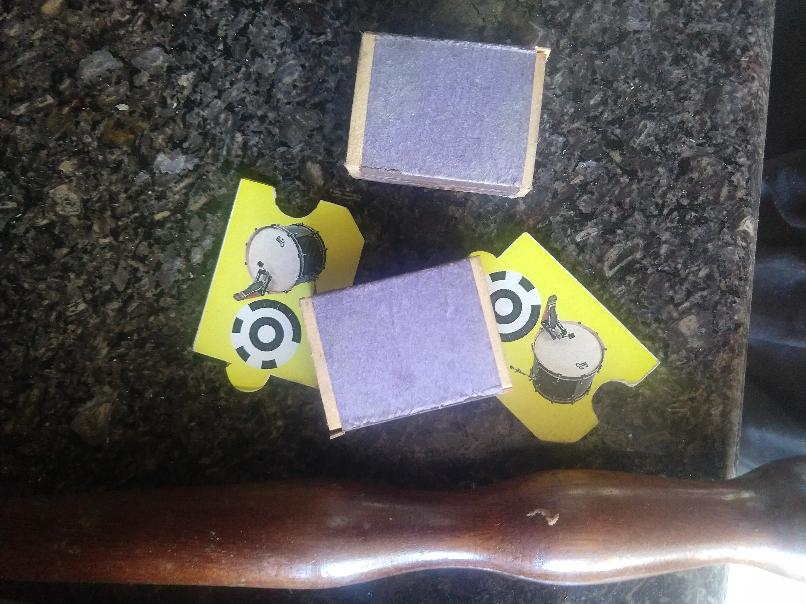bumbo: (430, 228, 660, 449), (190, 174, 366, 393)
